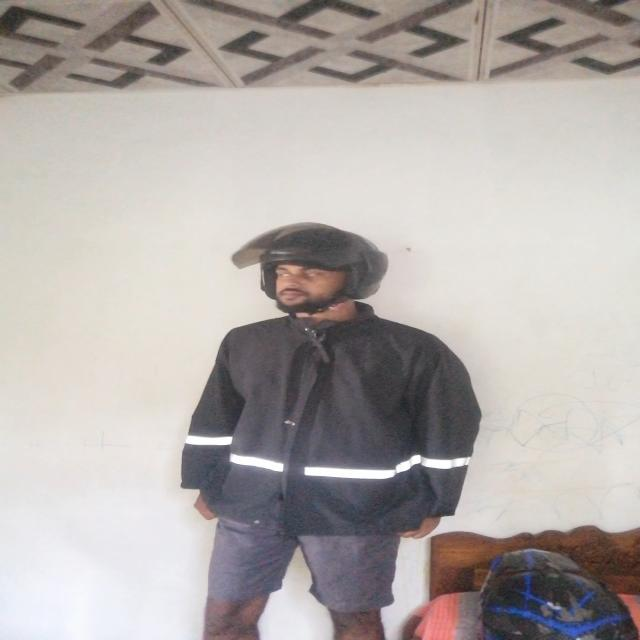Helmet_Wearer: (210, 220, 410, 322)
Jacket_Wearer: (179, 300, 477, 526)
Person: (185, 223, 483, 640)
